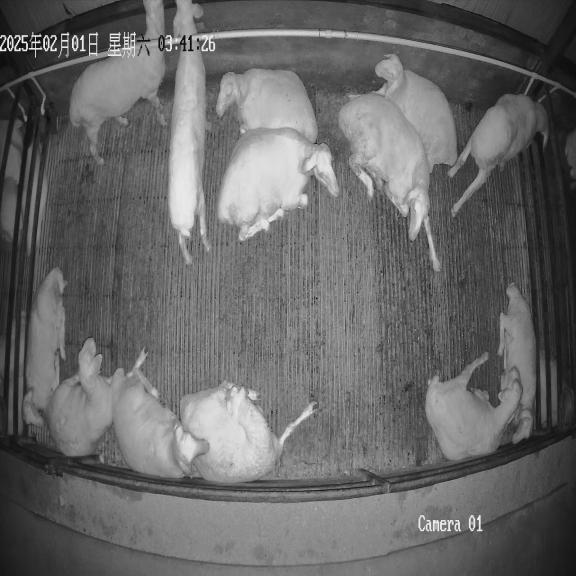lying: (339, 92, 441, 270), (216, 128, 339, 241), (180, 381, 307, 483), (113, 349, 209, 478), (425, 353, 522, 460), (375, 54, 457, 174), (45, 338, 117, 456), (216, 68, 318, 142), (22, 268, 66, 427), (497, 283, 536, 443)
stand: (69, 0, 167, 164), (448, 94, 549, 216), (168, 0, 210, 265)
